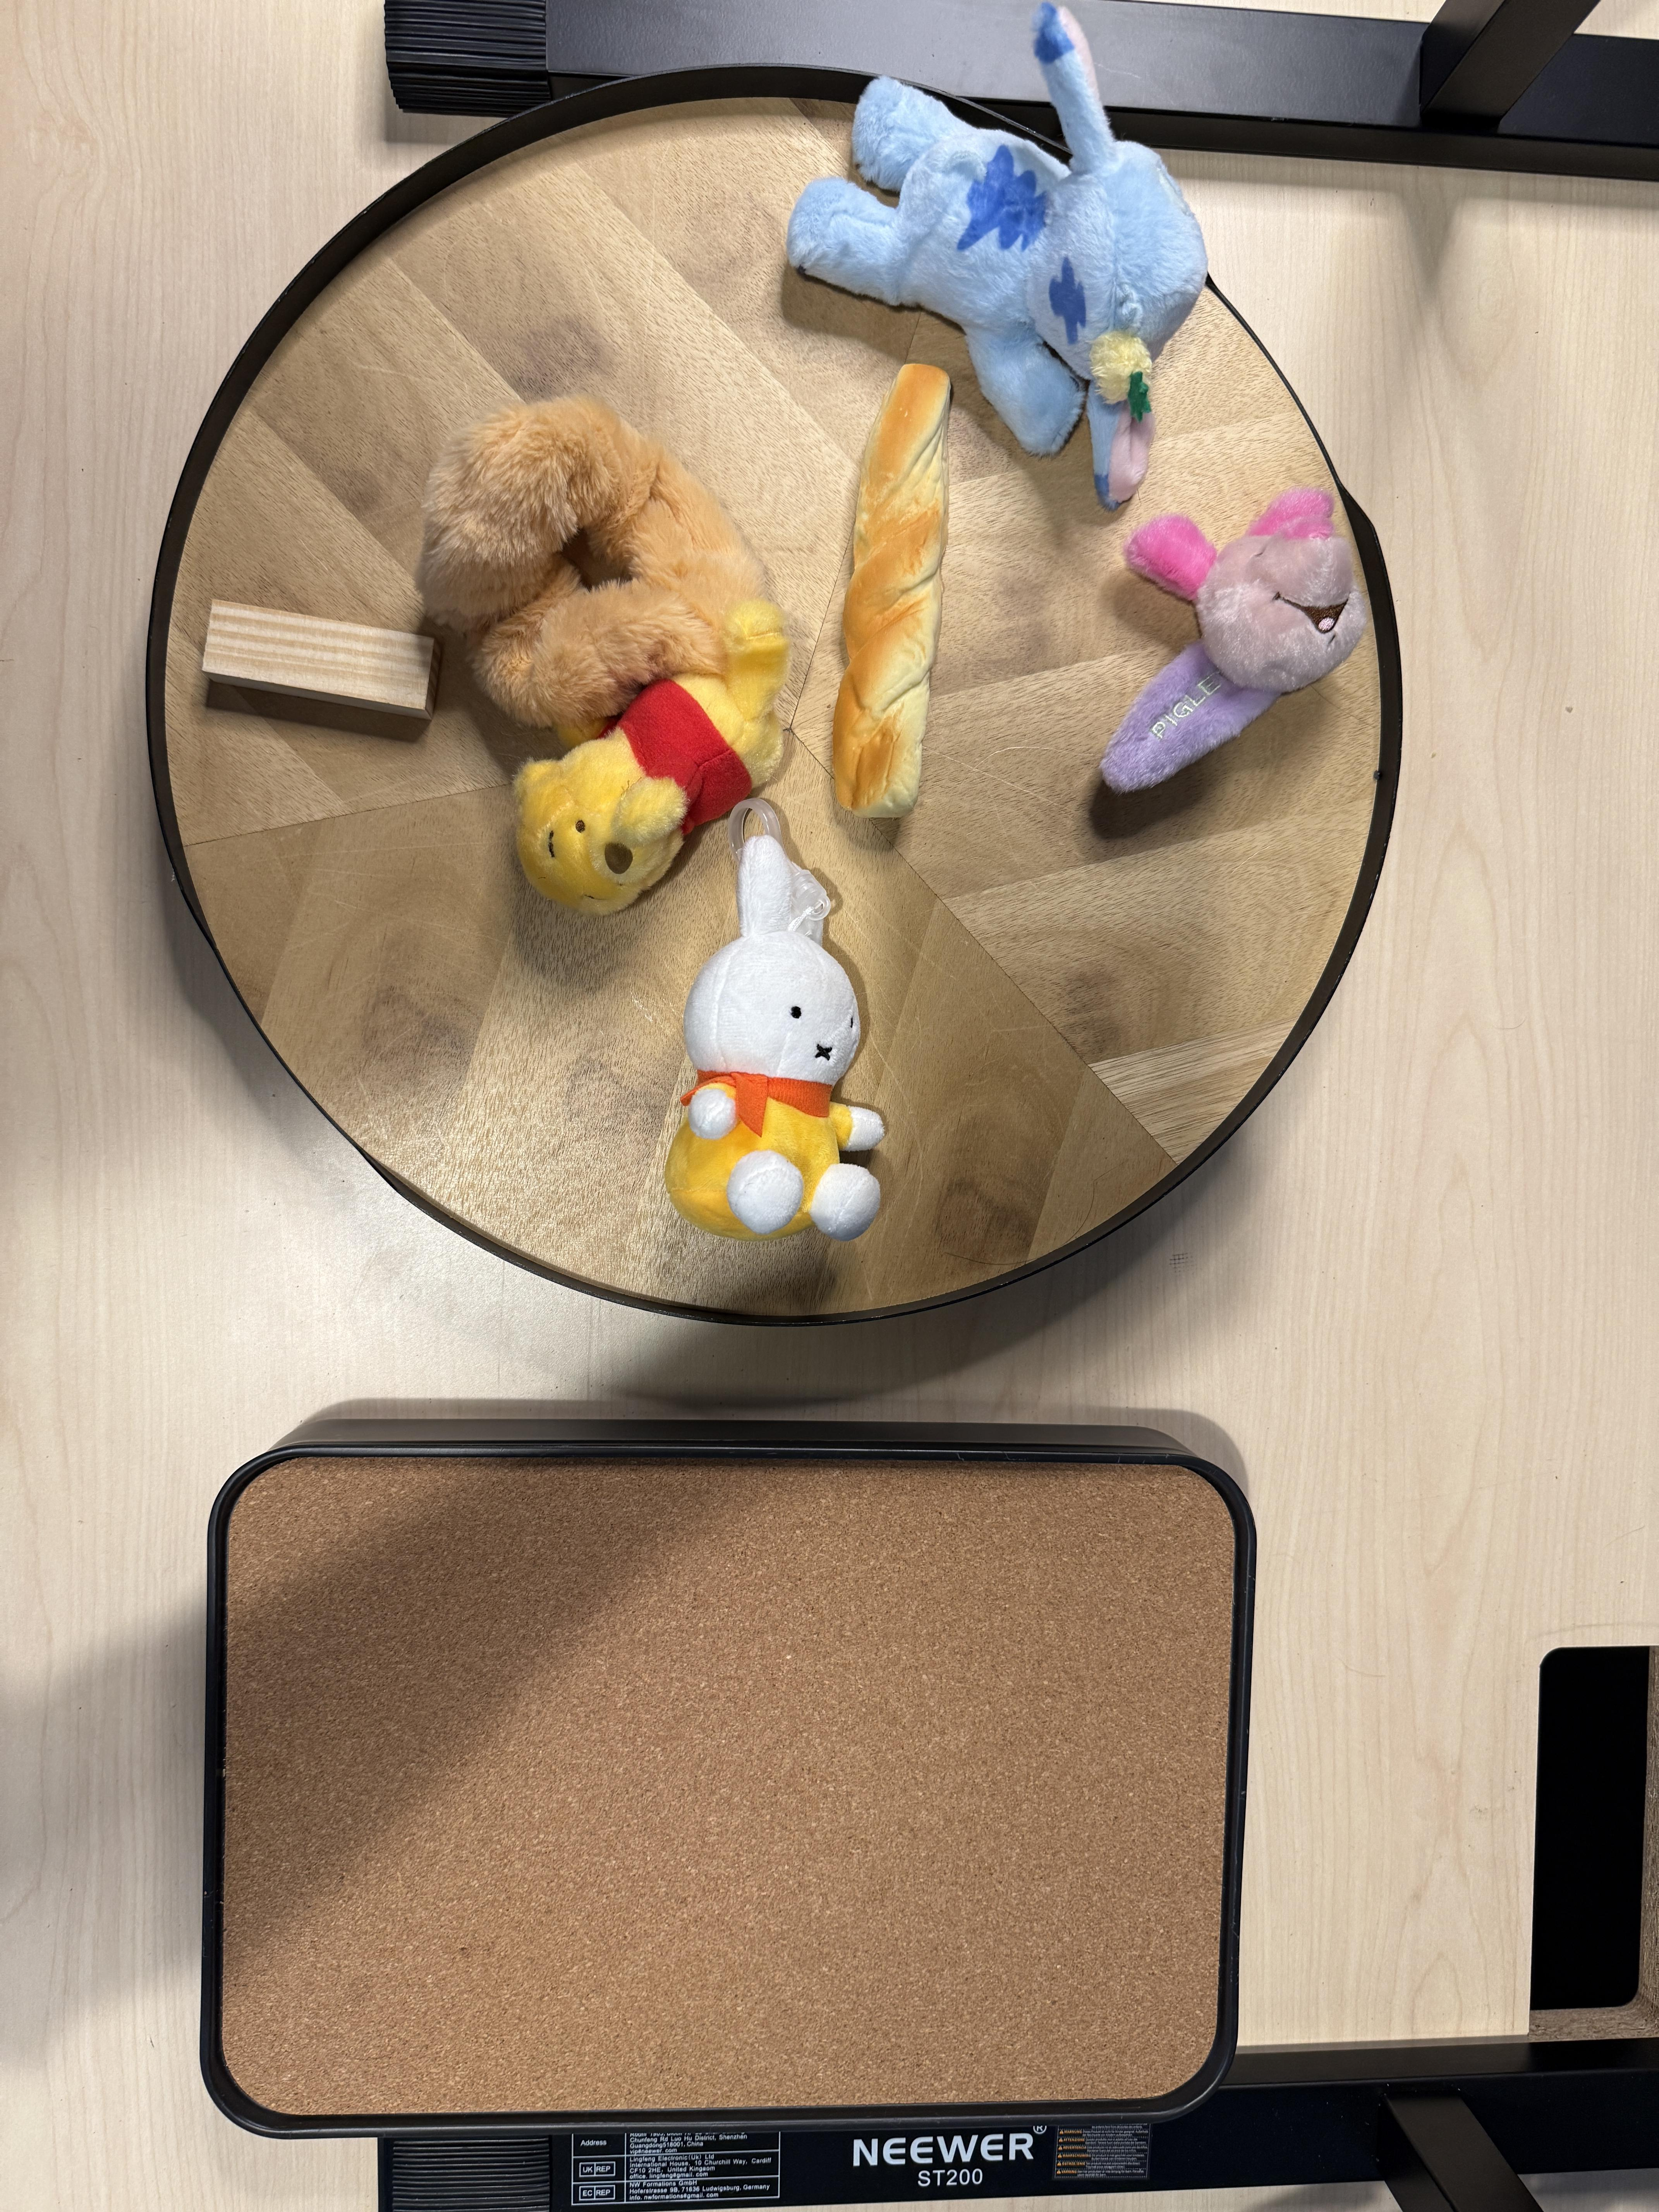block: (193, 573, 455, 735)
bread: (802, 357, 972, 820)
doll: (786, 66, 1269, 500), (422, 395, 810, 904), (631, 805, 911, 1238), (1084, 469, 1368, 820)
